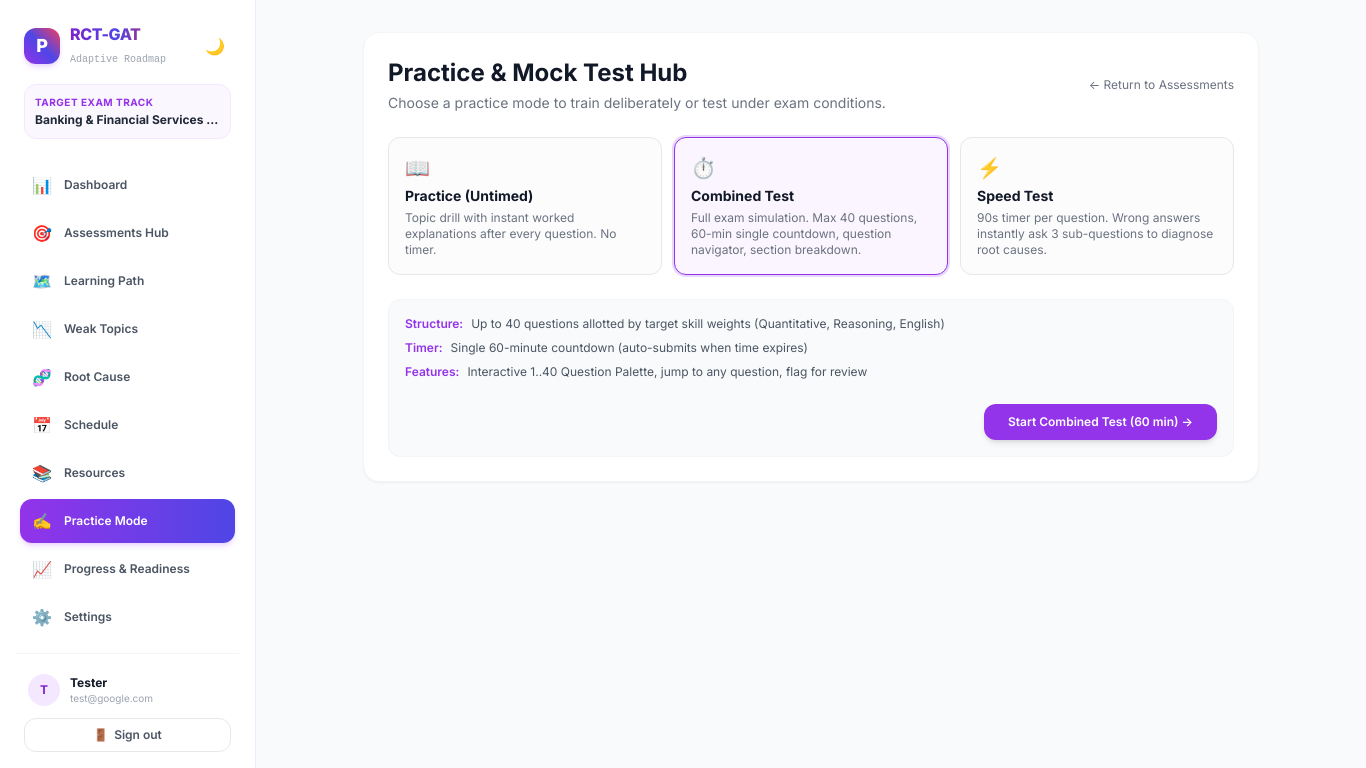
it: PracticeMode: 3 Interactive Modes › 2. Mode 2 - Combined Test: 60-min countdown, 1..40 Question Palette, jump and section breakdown
Click Start Combined Test
Click the button "Start Combined Test (60 min) →" at (1100, 422), box [984,404,1217,440]
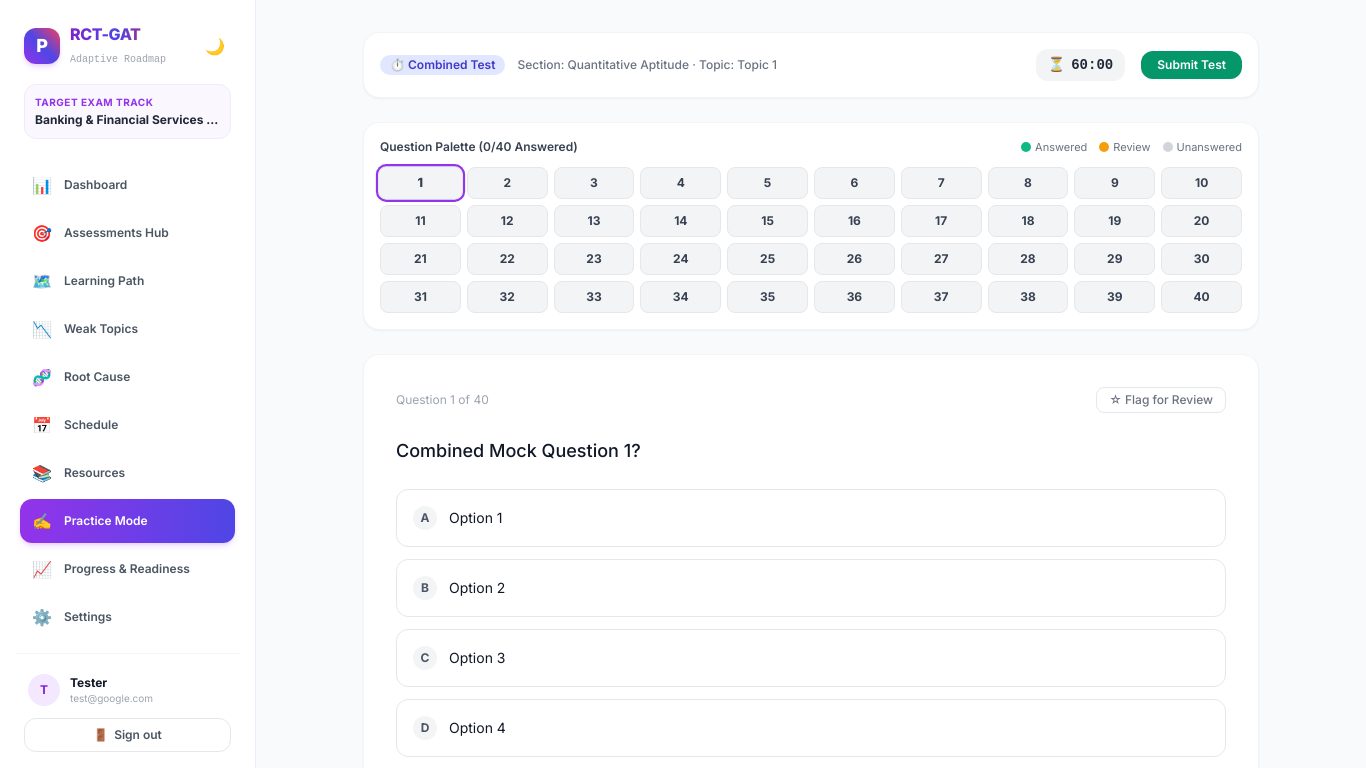
Check: the element with test id "combined-countdown" is shown, box [1036,49,1125,81]
Check: the element with test id "question-palette" is shown, box [363,122,1259,330]
Check: the button with test id "palette-btn-1" is shown, box [378,166,463,200]
Jump to Question 15 via palette
Click the button with test id "palette-btn-15" at (768, 221), box [727,205,808,237]
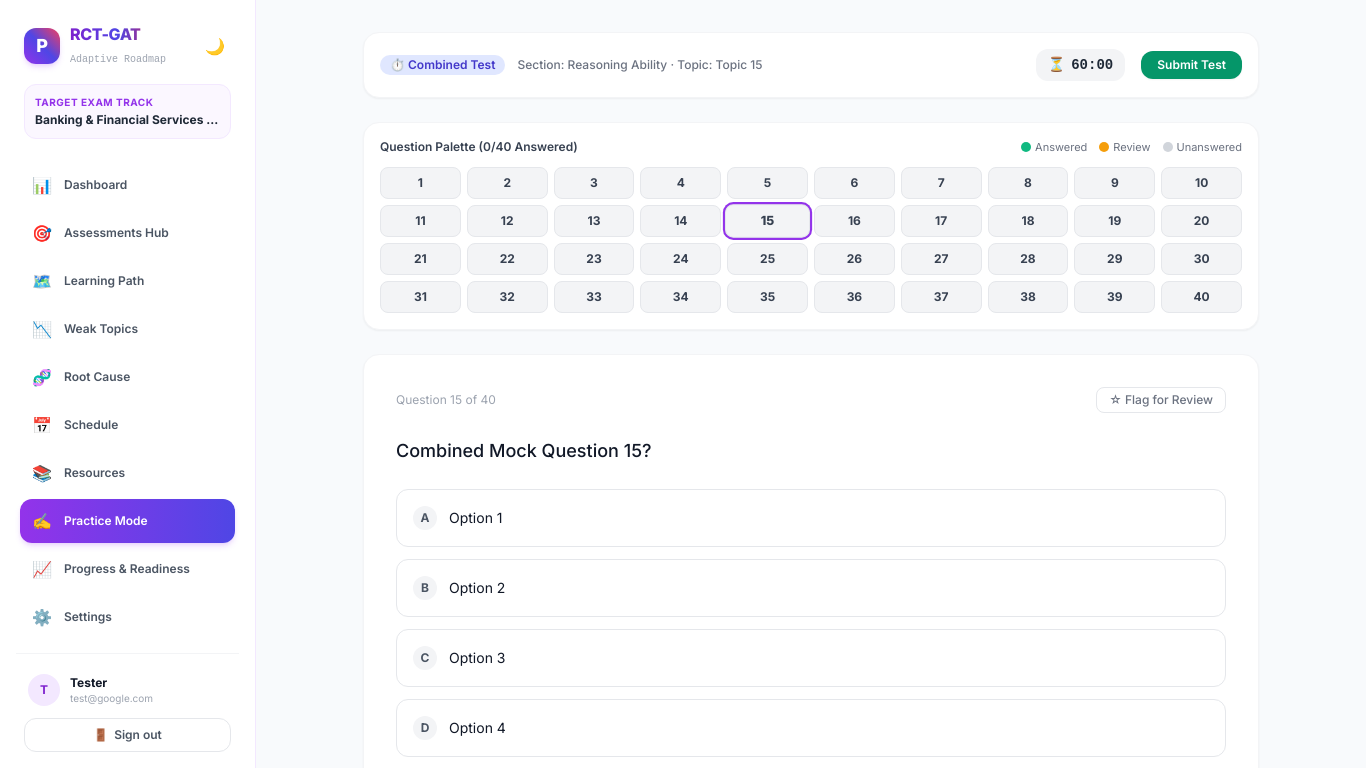
Check: the text "Combined Mock Question 15?" is shown, box [396,440,652,461]
Check: the text "Question 15 of 40" is shown, box [396,392,496,408]
Flag Question 15 for review
Click the button with test id "flag-review-btn" at (1161, 400), box [1096,387,1226,413]
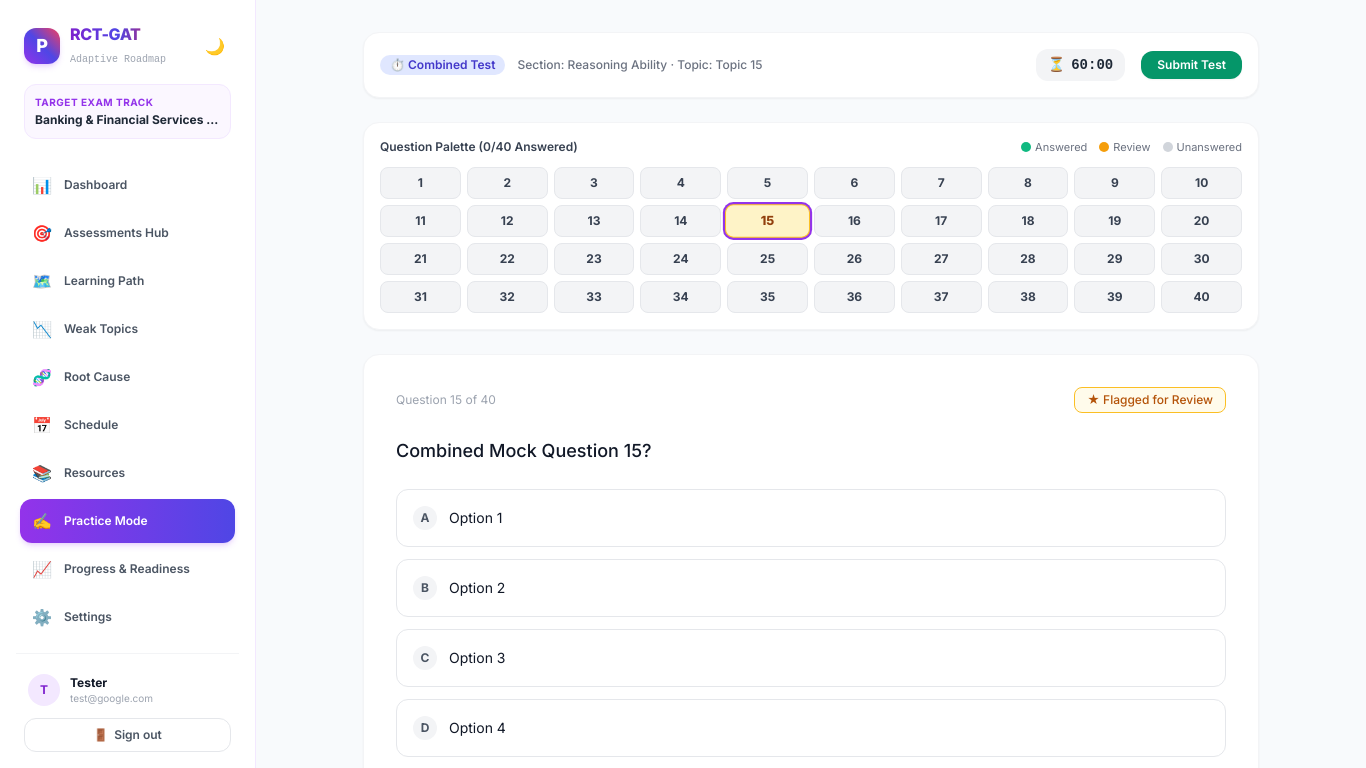
Check: the button "★ Flagged for Review" is shown, box [1074,387,1226,413]
Click the button with test id "option-btn-A" at (476, 518), box [396,489,1226,547]
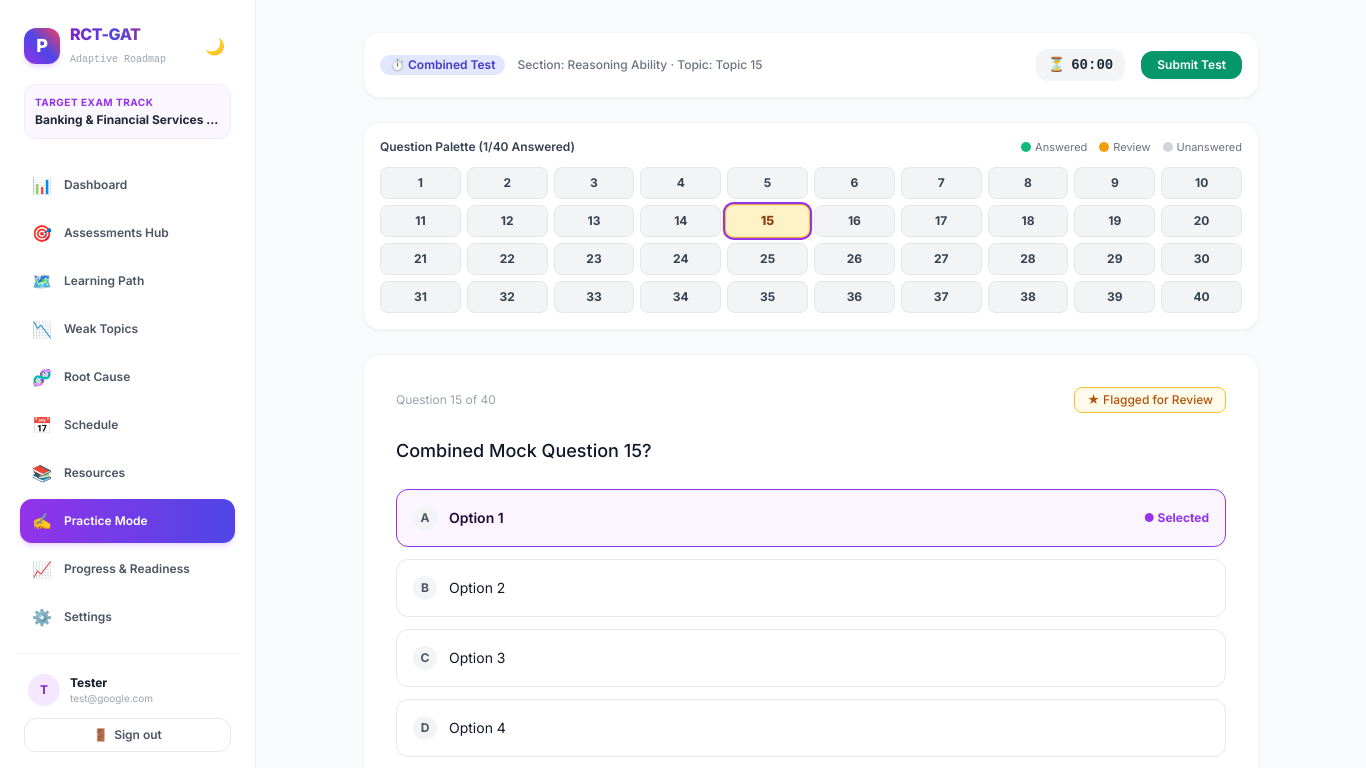
Submit combined test
Click the button with test id "submit-combined-test-btn" at (1192, 65), box [1141,51,1242,79]
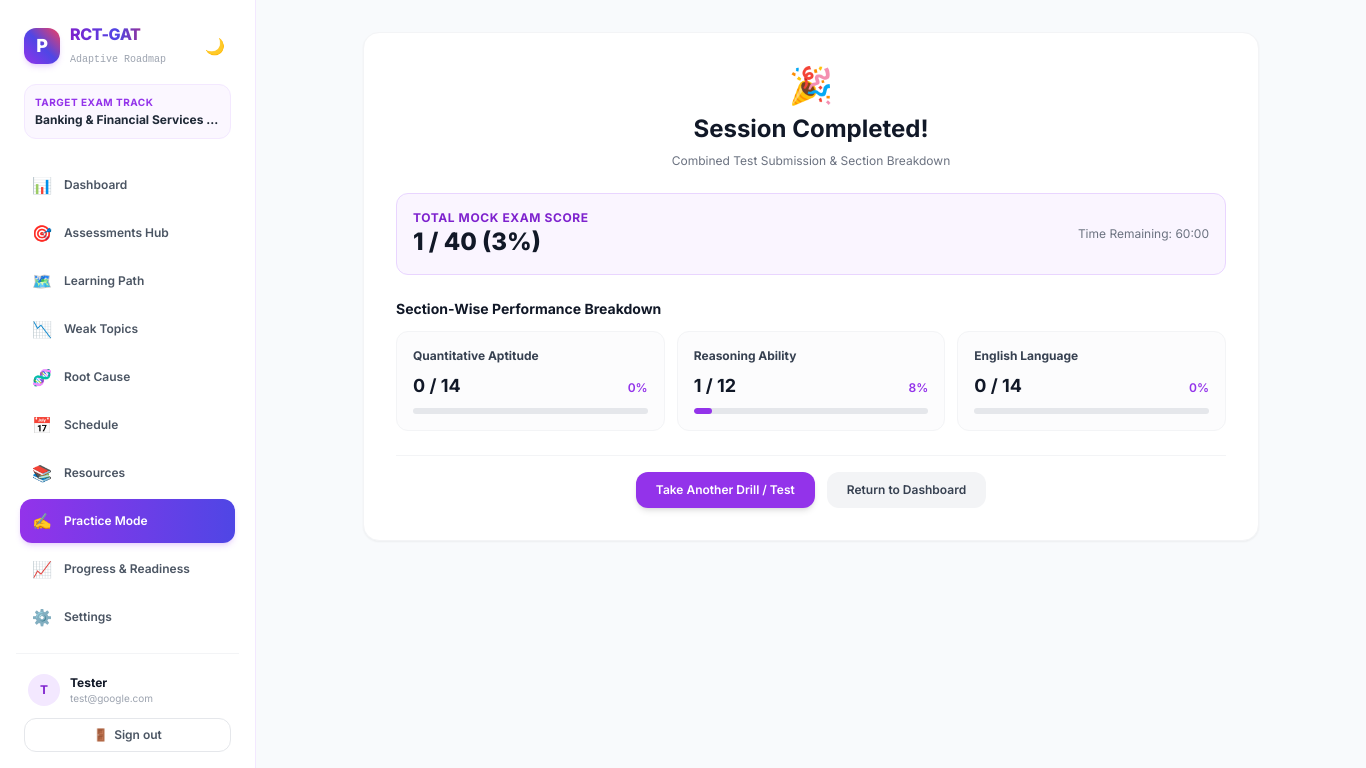
Check: the element with test id "practice-results-view" is shown, box [363,32,1259,541]
Check: the element with test id "section-breakdown" is shown, box [396,299,1226,431]
Check: the heading "Section-Wise Performance Breakdown" is shown, box [396,300,661,317]
